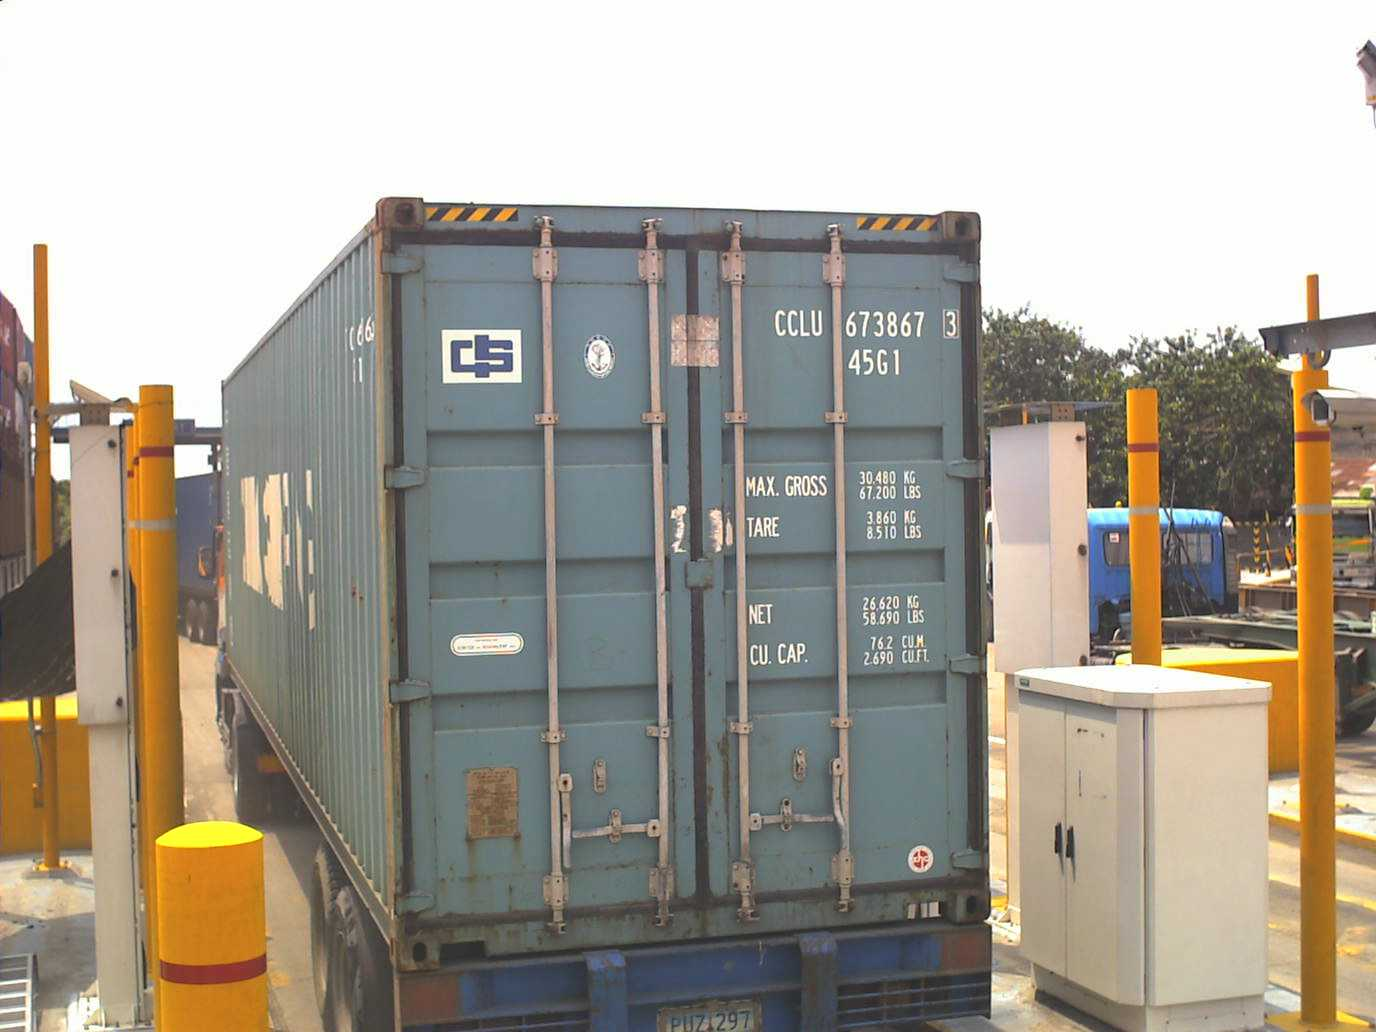container_door: (374, 192, 995, 940)
